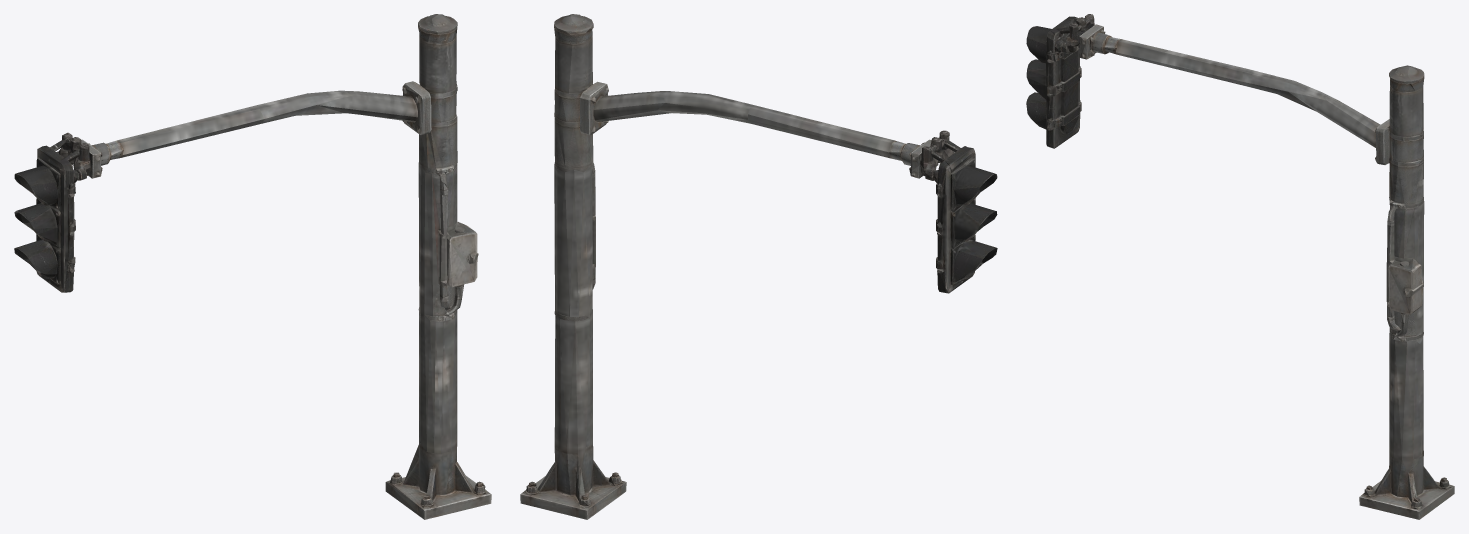
The model's file is prop-signal.glb.
3 renders of one model, left to right at view 1: azimuth 30°, elevation 25°; view 2: azimuth 150°, elevation 25°; view 3: azimuth 330°, elevation 25°, orthographic. The views are drawn at different scales.
Parts seen in each view (by area): view 1: output_unwrapped; view 2: output_unwrapped; view 3: output_unwrapped.
Part boxes in pixels (left/top/right/bottom): output_unwrapped: left=14, top=14, right=491, bottom=519; output_unwrapped: left=520, top=14, right=997, bottom=519; output_unwrapped: left=1026, top=14, right=1454, bottom=519.
Size of the model in its own units: 1.86 by 1.89 by 0.2793.
Materials: 1 (1 with a texture image).
